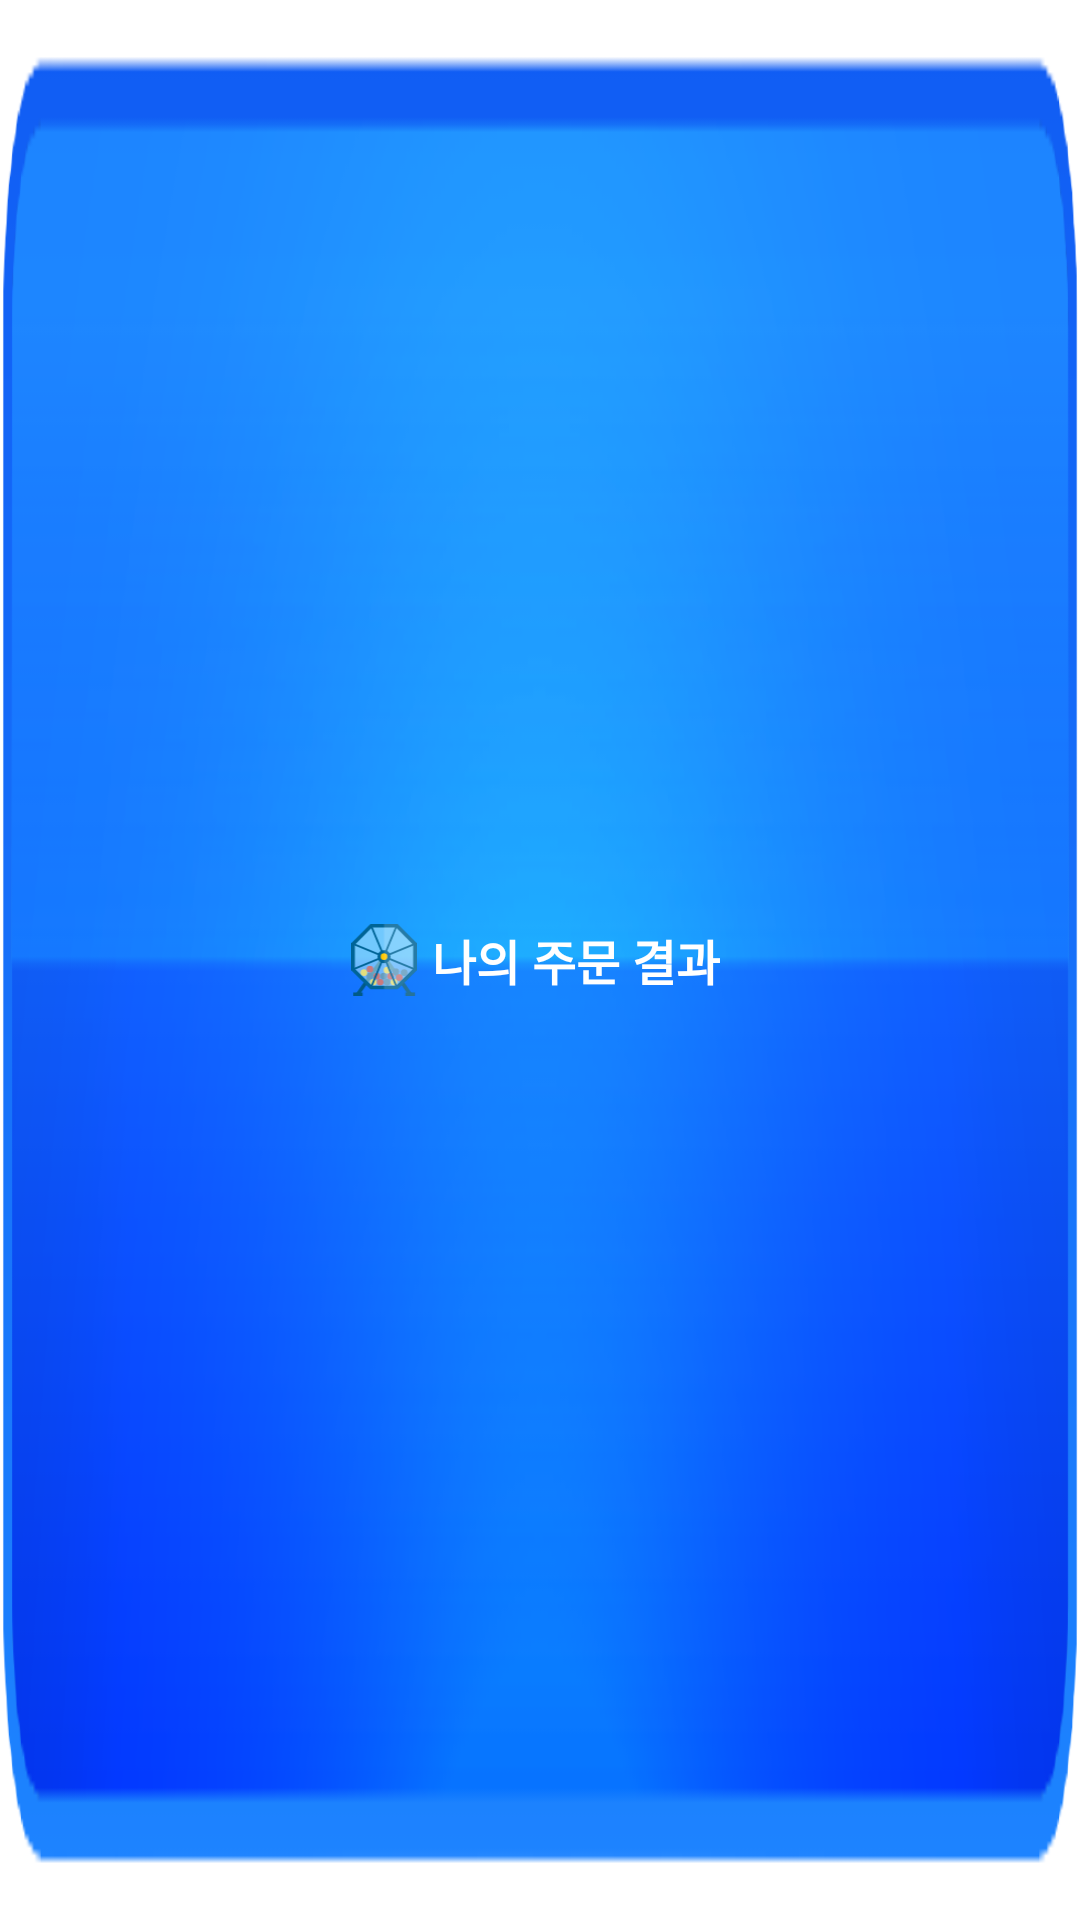

Where to tap for icons on this 1080 × 1920 app screen, as point (x, y):
buy random: point (384, 960)
